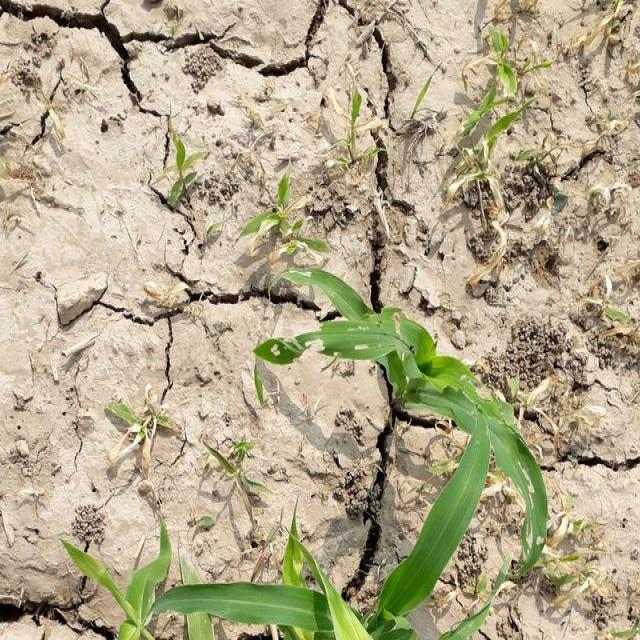weed: (278, 256, 555, 608)
